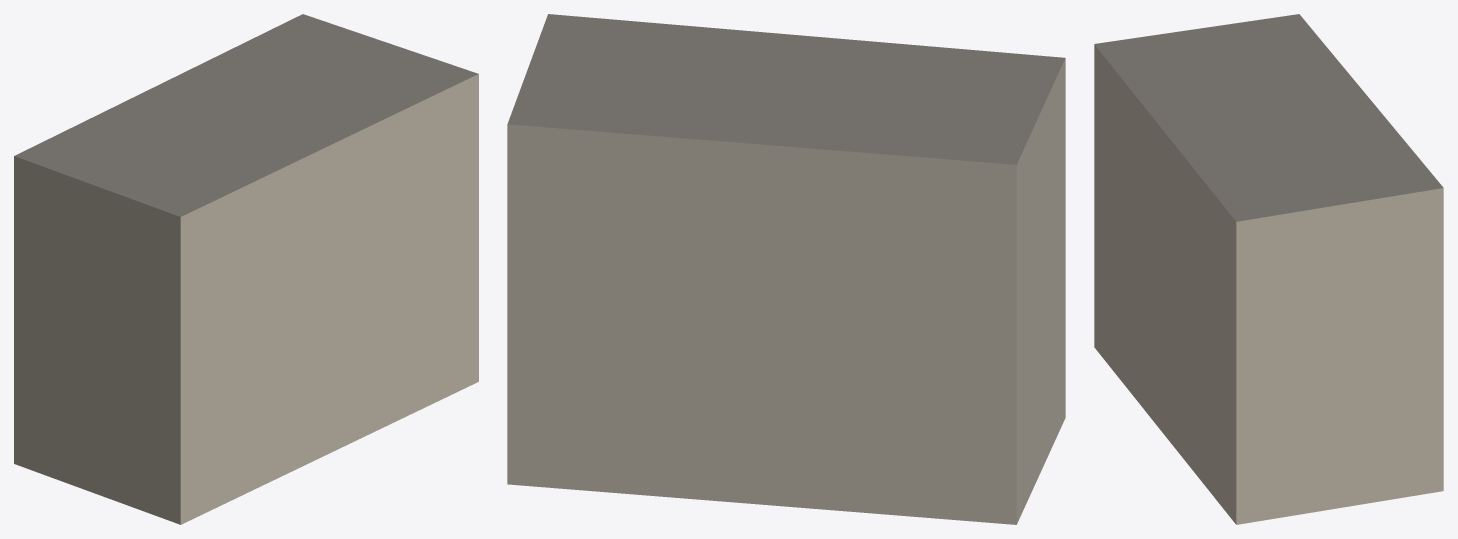
3 views of the same model, side by side, from view 1: azimuth 30°, elevation 25°; view 2: azimuth 150°, elevation 25°; view 3: azimuth 270°, elevation 25° (orthographic). The views are drawn at different scales.
Parts seen in each view (by area): view 1: HP-w446934330; view 2: HP-w446934330; view 3: HP-w446934330.
Boxes of the visible parts, x1,y1,x2,y2 form: HP-w446934330: (14, 14, 478, 524); HP-w446934330: (507, 14, 1065, 524); HP-w446934330: (1094, 14, 1443, 524).
Size of the model in its own units: 26.47 by 18 by 18.82.
